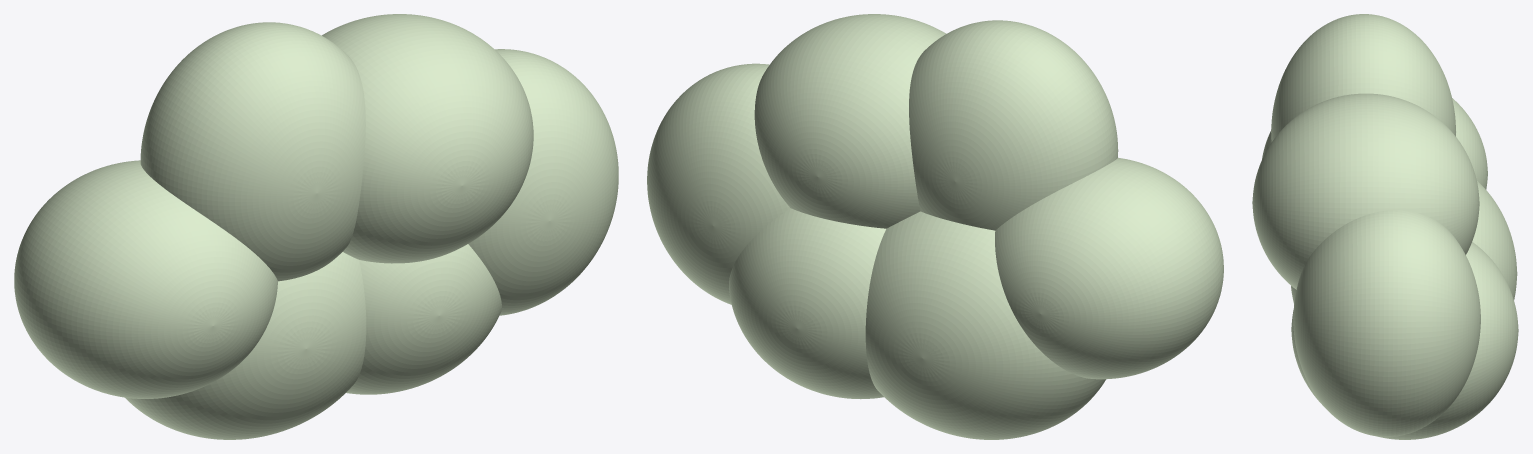
Rendered from Nube.fbx.
The picture shows the model from 3 angles, left to right: view 1: azimuth 30°, elevation 25°; view 2: azimuth 150°, elevation 25°; view 3: azimuth 270°, elevation 25°; orthographic projection. The views are drawn at different scales.
Parts seen in each view (by area): view 1: Esfera.005, Esfera, Esfera.003, Esfera.004, Esfera.001, Esfera.002; view 2: Esfera.005, Esfera, Esfera.001, Esfera.003, Esfera.002, Esfera.004; view 3: Esfera.004, Esfera.003, Esfera, Esfera.002, Esfera.001, Esfera.005.
Boxes of the visible parts, x1=… form: Esfera.005: x1=14, y1=160, x2=277, y2=398; Esfera: x1=140, y1=22, x2=365, y2=281; Esfera.003: x1=322, y1=14, x2=533, y2=263; Esfera.004: x1=468, y1=49, x2=618, y2=315; Esfera.001: x1=125, y1=252, x2=366, y2=439; Esfera.002: x1=346, y1=244, x2=501, y2=394; Esfera.005: x1=995, y1=157, x2=1223, y2=379; Esfera: x1=909, y1=20, x2=1118, y2=230; Esfera.001: x1=865, y1=211, x2=1105, y2=439; Esfera.003: x1=754, y1=14, x2=946, y2=228; Esfera.002: x1=729, y1=208, x2=885, y2=399; Esfera.004: x1=647, y1=63, x2=790, y2=304; Esfera.004: x1=1293, y1=210, x2=1480, y2=436; Esfera.003: x1=1252, y1=93, x2=1479, y2=289; Esfera: x1=1271, y1=14, x2=1455, y2=141; Esfera.002: x1=1291, y1=242, x2=1518, y2=439; Esfera.001: x1=1291, y1=181, x2=1517, y2=304; Esfera.005: x1=1262, y1=98, x2=1487, y2=189.
Bounding box in the file's own units: 332 × 225 × 152.
